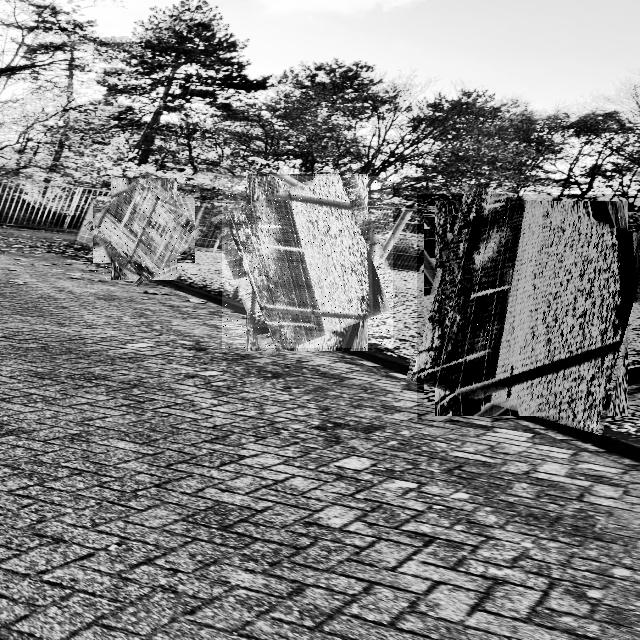fences: (417, 194, 640, 422), (222, 176, 393, 348), (93, 179, 195, 280)
